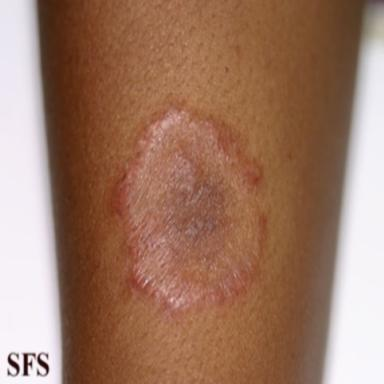Tinea-Corporis: (111, 101, 267, 316)
